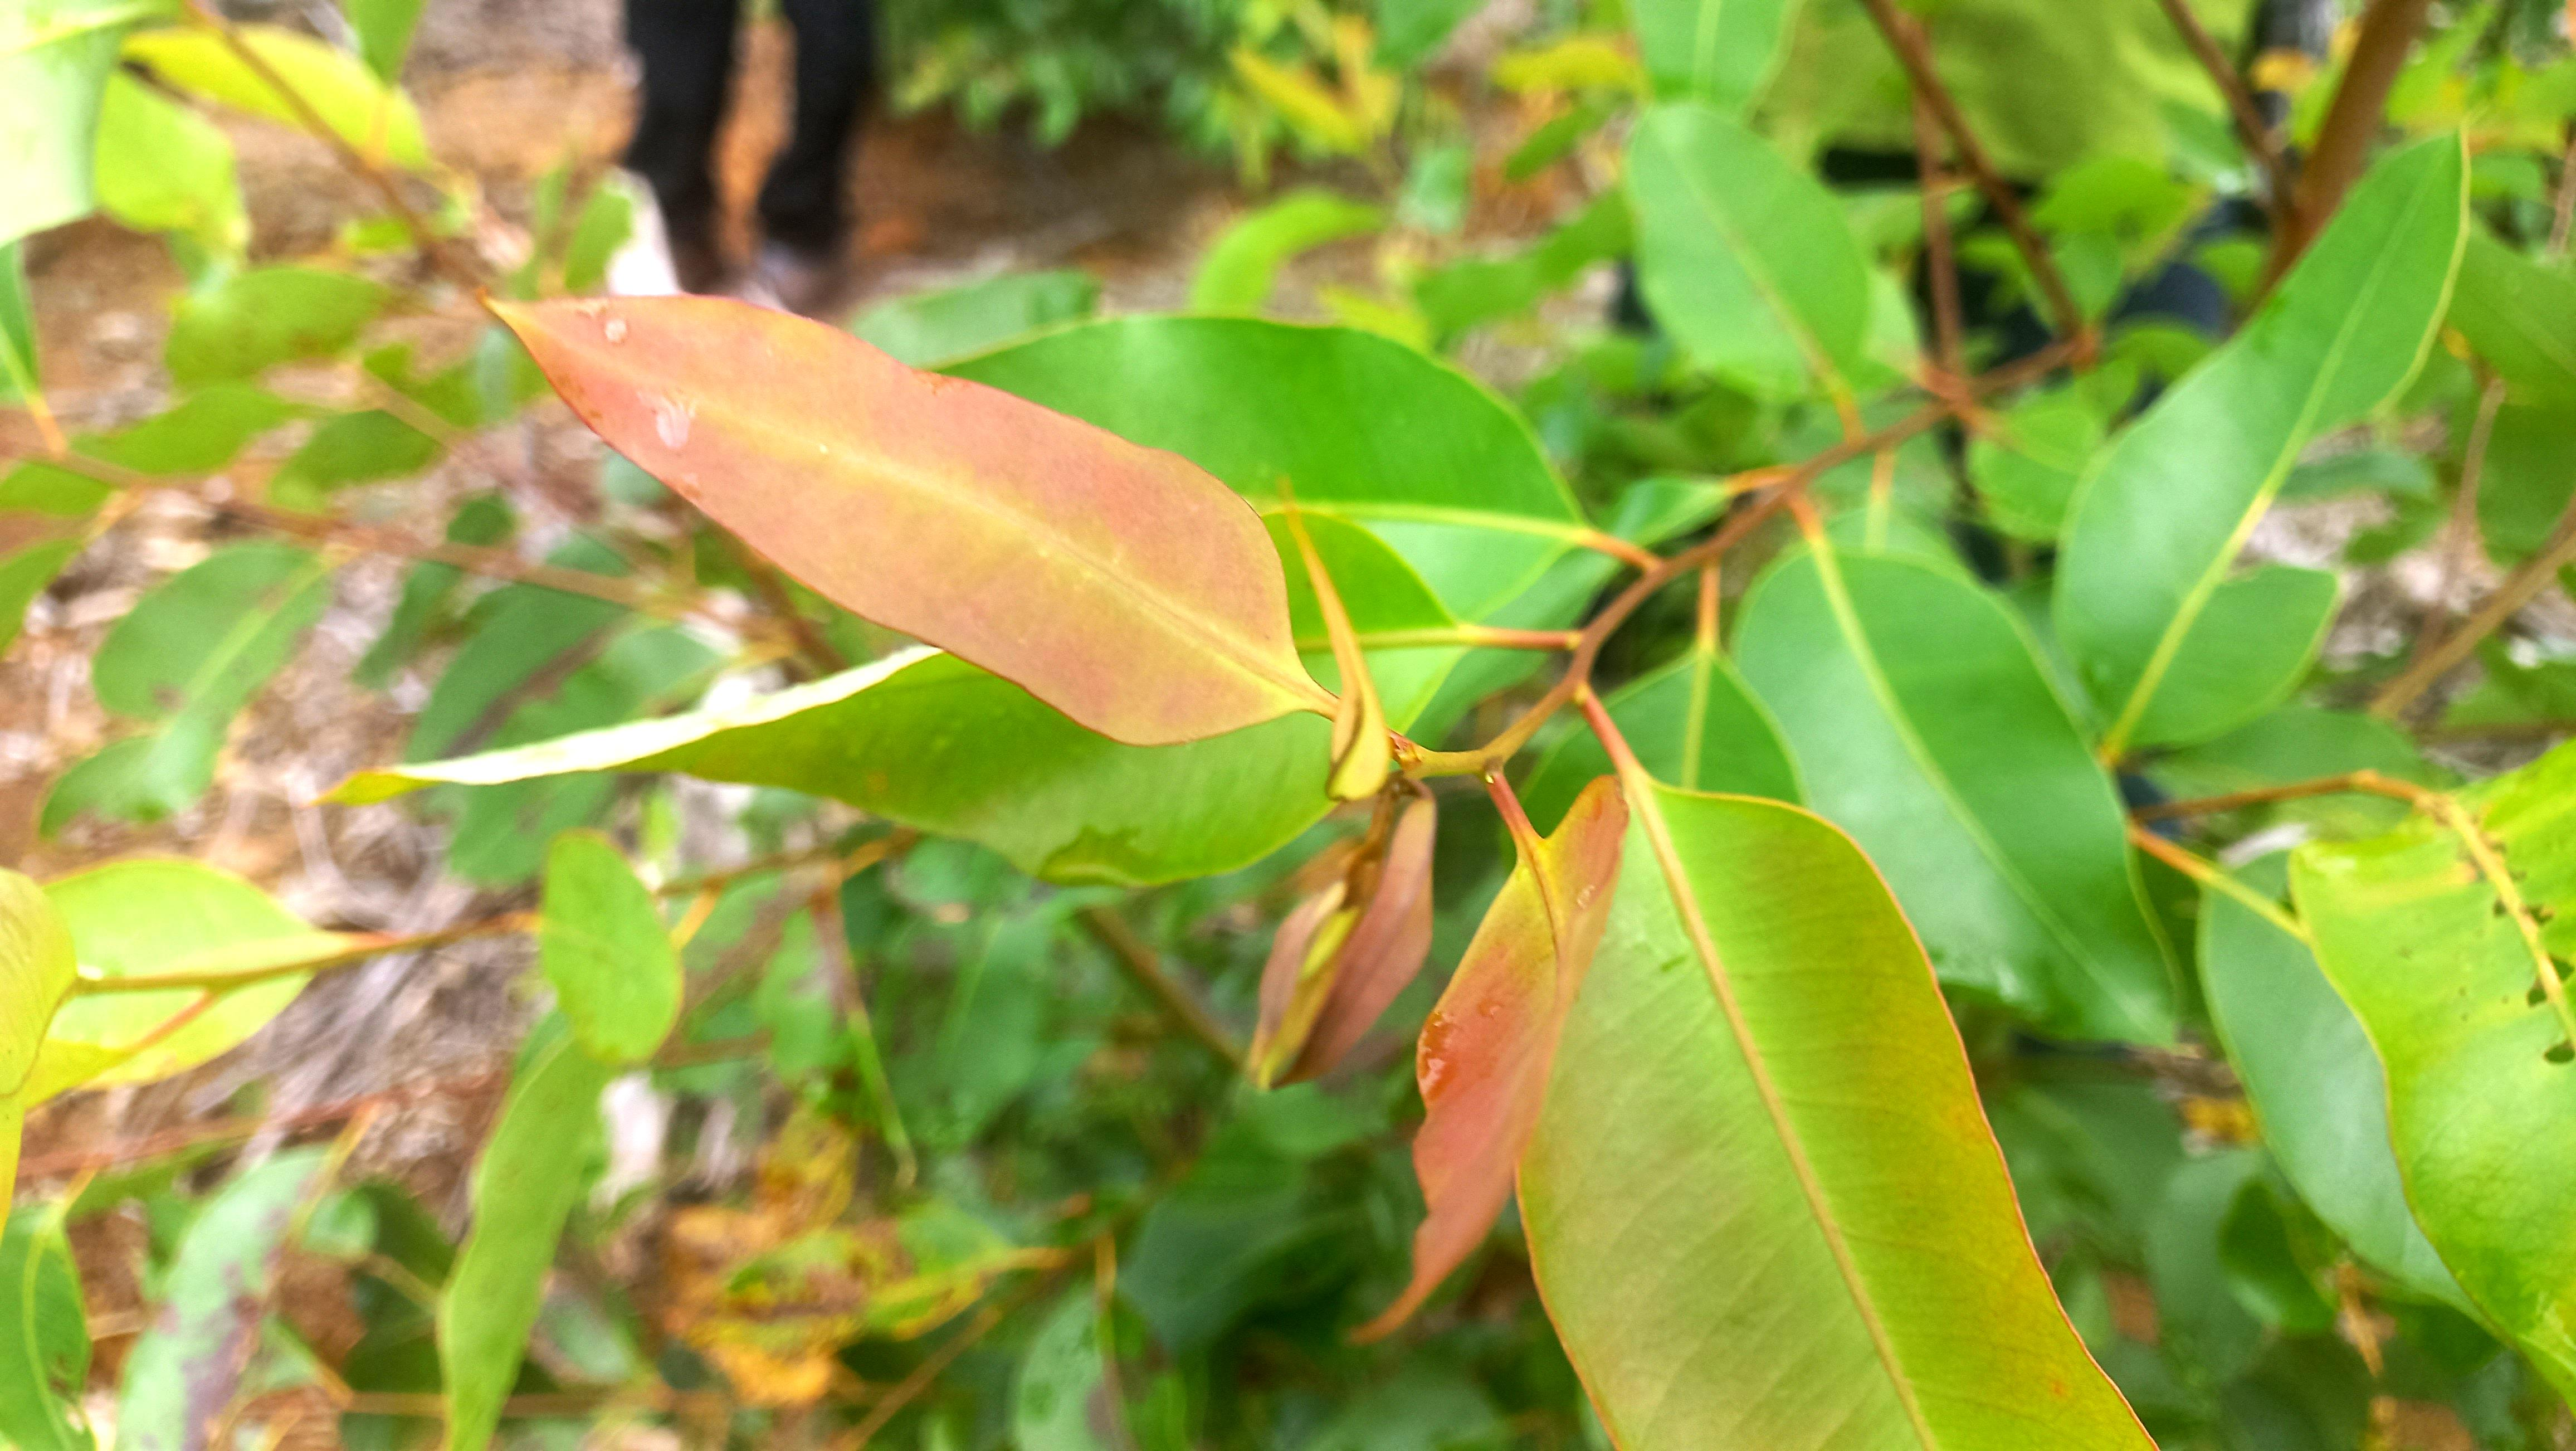Helopeltis-Withered Sprout: (1274, 797, 1449, 1088), (1282, 483, 1422, 803), (1235, 841, 1349, 1101)
